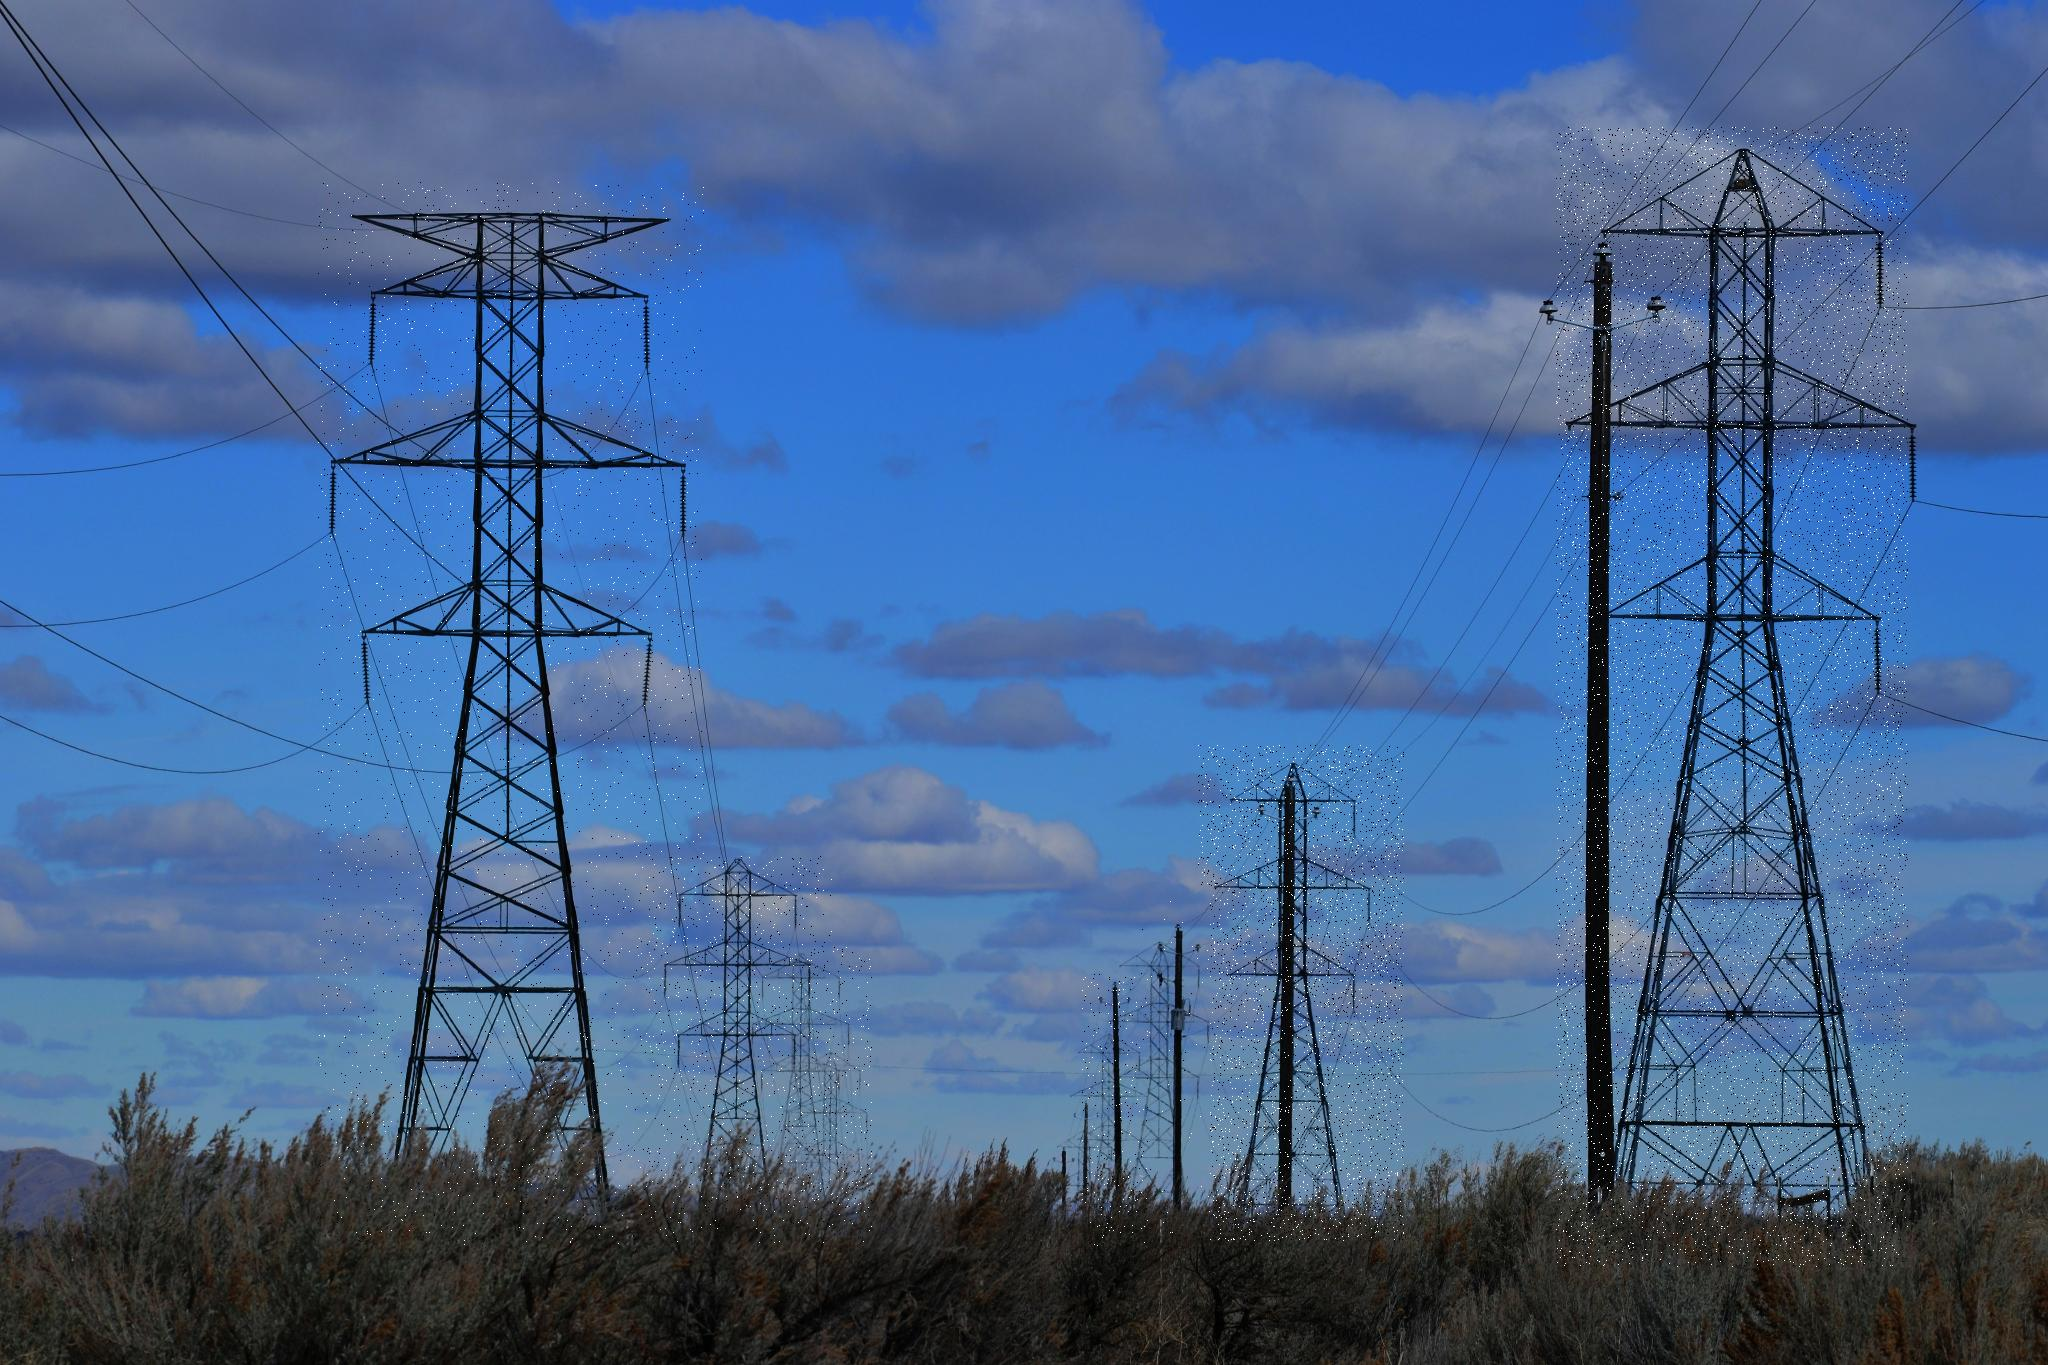cable tower: (318, 182, 704, 1246), (1556, 127, 1908, 1267), (1198, 745, 1404, 1241), (646, 856, 832, 1236), (754, 947, 872, 1243), (1142, 891, 1210, 1249), (1082, 972, 1148, 1246)
